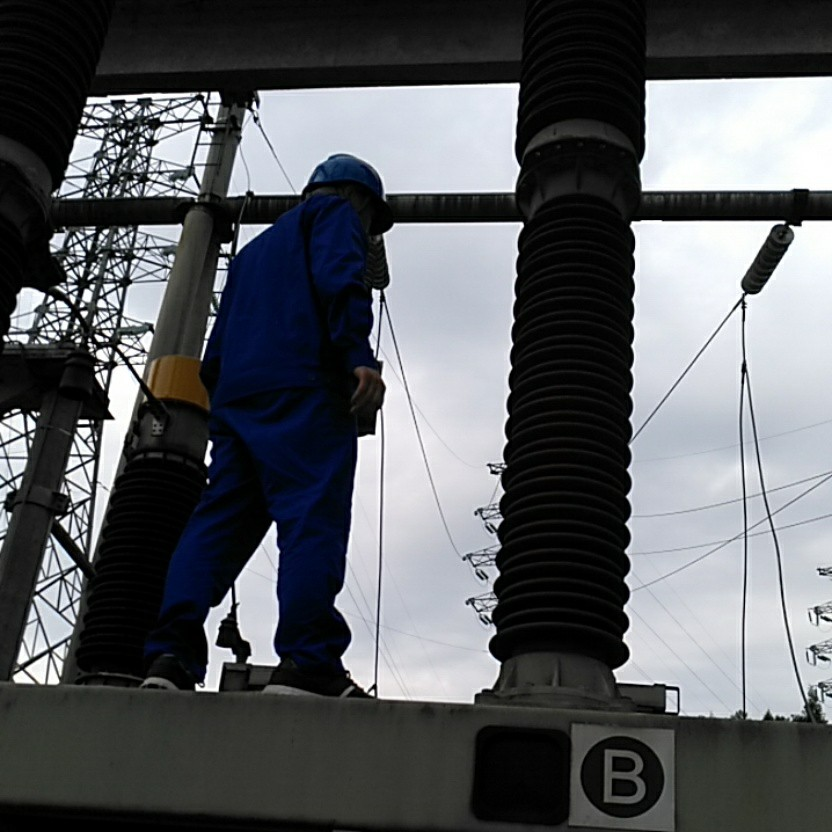hat: (298, 145, 391, 214)
